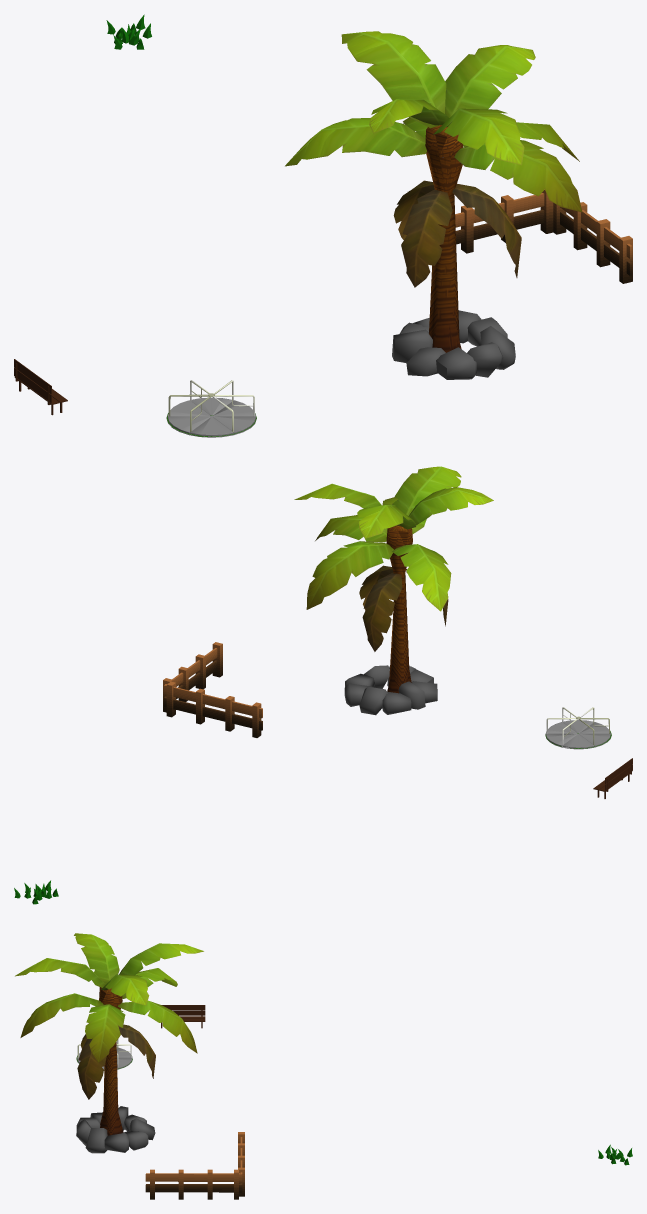
The model's file is environment_city_2.fbx.
The picture shows the model from 3 angles, top to bottom: view 1: azimuth 30°, elevation 25°; view 2: azimuth 150°, elevation 25°; view 3: azimuth 270°, elevation 25°; orthographic projection. The views are drawn at different scales.
Parts seen in each view (by area): view 1: coconut_tree.002, stone_ring.002, Object_15.001, fence_1, fence_2, Cube.005, grass2.008; view 2: coconut_tree.002, stone_ring.002, fence_2, Object_15.001, fence_1; view 3: coconut_tree.002, stone_ring.002, fence_1, Cube.005, Object_15.001, fence_2.
Part boxes in pixels (x1,y1,x2,y2): coconut_tree.002: (285,31,582,352); stone_ring.002: (392,310,515,379); Object_15.001: (166,380,256,437); fence_1: (553,202,632,283); fence_2: (455,189,553,253); Cube.005: (14,359,67,415); grass2.008: (106,14,151,49); coconut_tree.002: (294,466,493,693); stone_ring.002: (344,665,437,715); fence_2: (164,681,262,737); Object_15.001: (545,707,611,749); fence_1: (163,642,222,712); coconut_tree.002: (15,933,203,1135); stone_ring.002: (76,1106,155,1153); fence_1: (145,1169,241,1199); Cube.005: (161,1005,205,1028); Object_15.001: (76,1039,132,1070); fence_2: (238,1132,244,1196).
Size of the model in its own units: 247 by 125 by 368.
